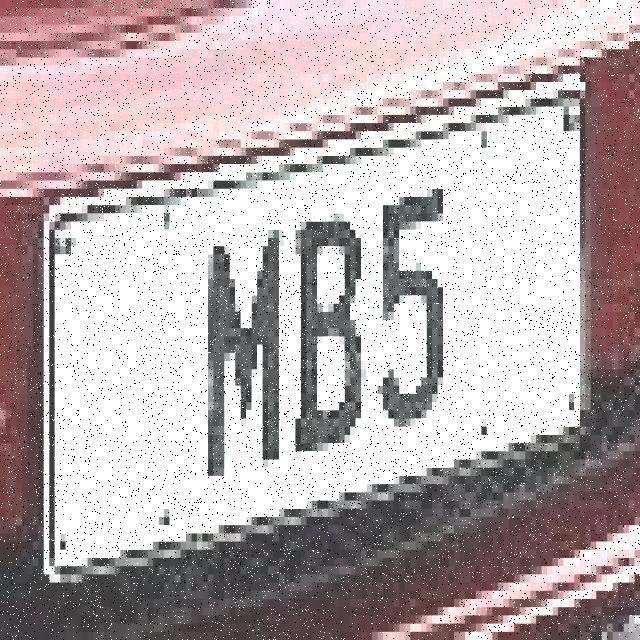LicensePlate: (18, 135, 595, 555)
